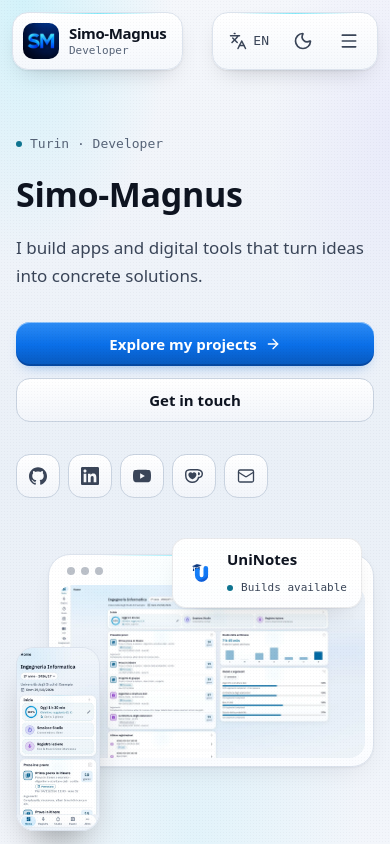
Test: home (inglese, predefinita) › apre e chiude il menu mobile
Click the button named "Open menu": point(349, 41) 327,19 -> 371,63
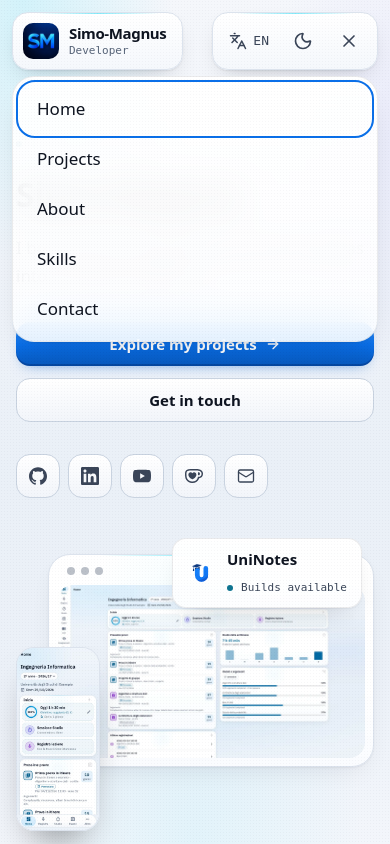
Now the button named "Close menu" is expanded, box 327,19 -> 371,63
Press Escape
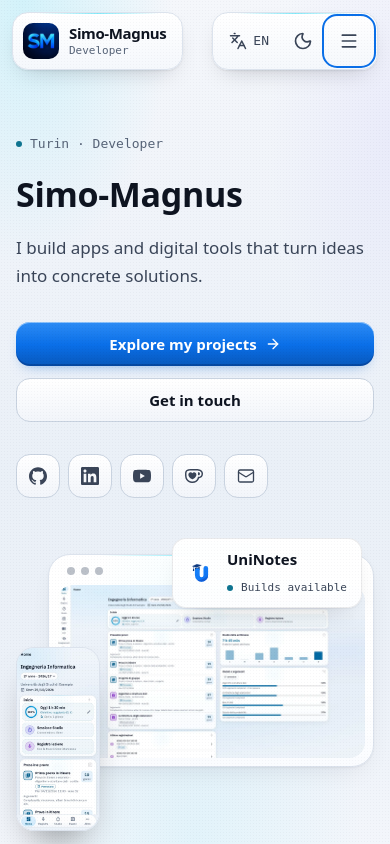
Now the button named "Open menu" is collapsed, box 327,19 -> 371,63
